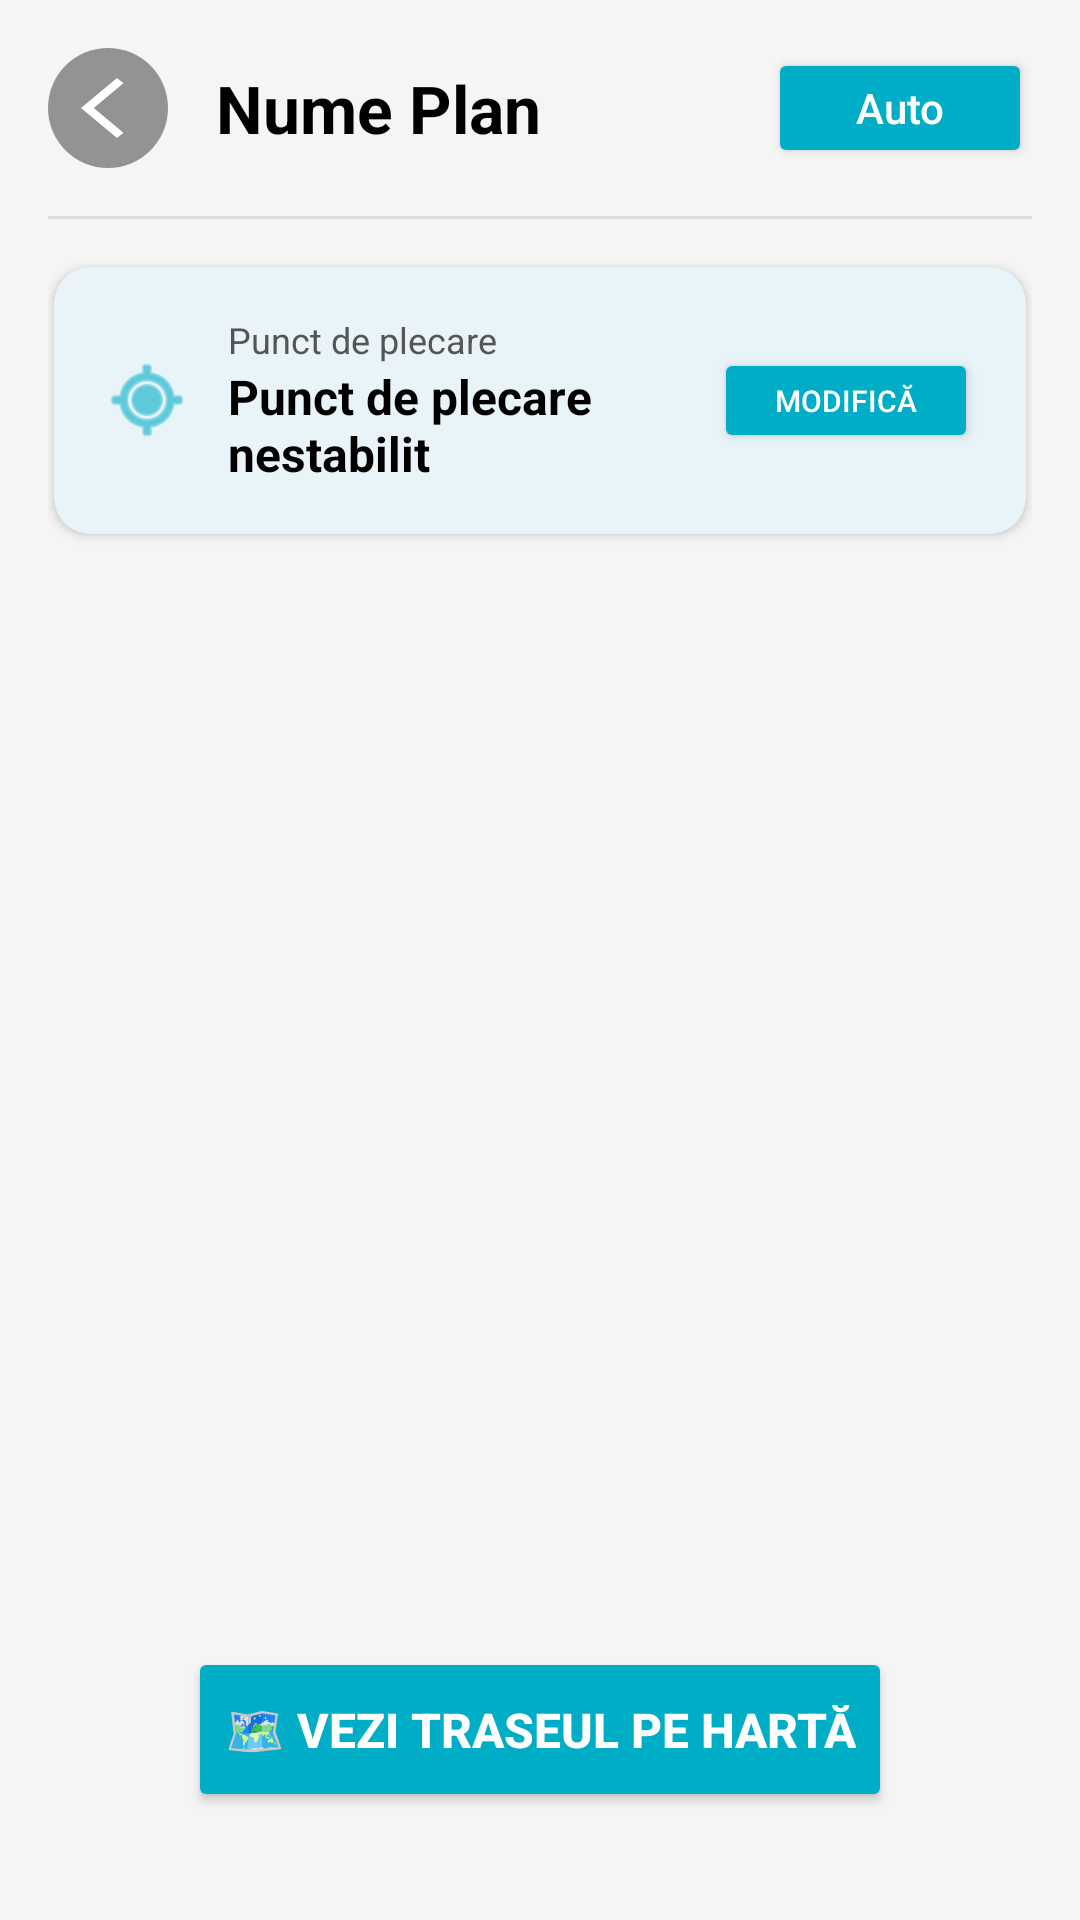

Icons on this 1080 × 1920 Android screen, each with its box as (x1=x1, y1=y1, x2=x2, y2=y2):
back: (x1=48, y1=48, x2=168, y2=168)
mylocation: (x1=111, y1=364, x2=183, y2=436)
